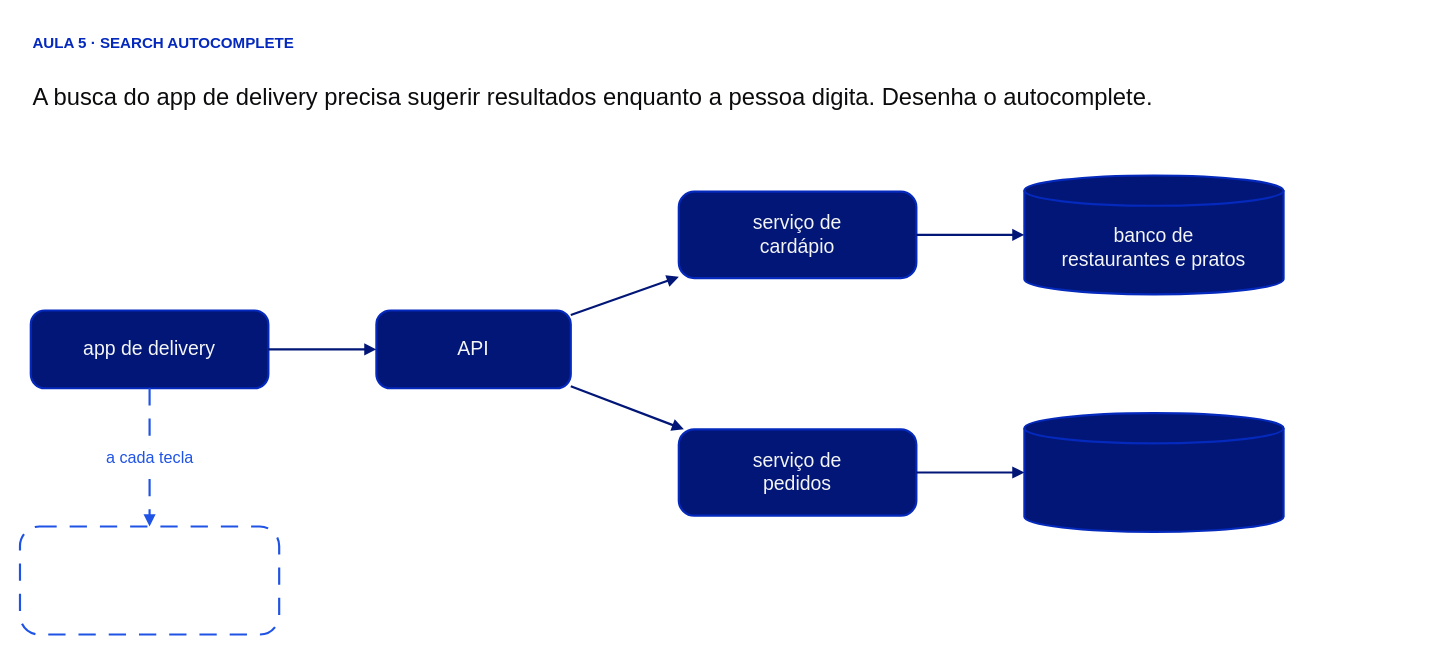
Some shapes in this 1431 by 653 pixel diagram are drawn without their labels. Each missing label, with the centre of its shape:
banco de pedidos: point (1153, 471)
sugestões enquanto digita: point (149, 580)
